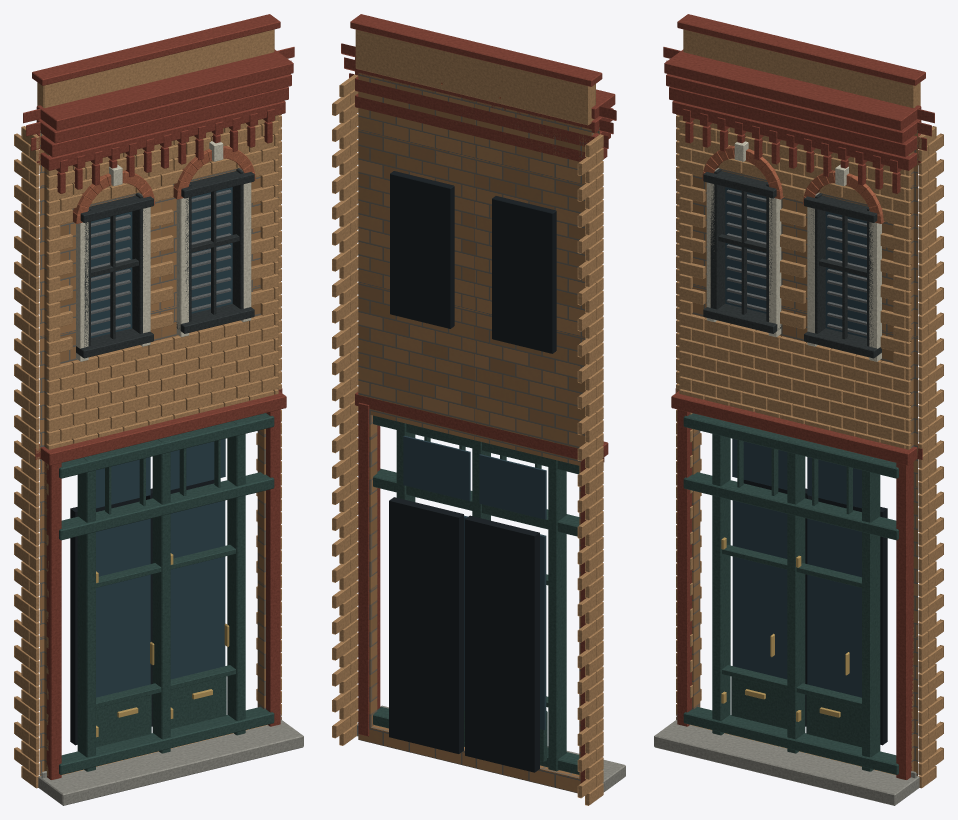
File: BUSS1_lod0.glb
3 views of the same model, side by side, from view 1: azimuth 30°, elevation 25°; view 2: azimuth 150°, elevation 25°; view 3: azimuth 330°, elevation 25° (orthographic).
Parts seen in each view (by area): view 1: BUSS1_FRONT_LOD0; view 2: BUSS1_FRONT_LOD0; view 3: BUSS1_FRONT_LOD0.
Part boxes in pixels (x1,y1,x2,y2): BUSS1_FRONT_LOD0: (14,14,303,805); BUSS1_FRONT_LOD0: (332,14,625,805); BUSS1_FRONT_LOD0: (654,14,943,805).
Bounding box in the file's own units: 3.78 × 9.44 × 1.12.
Materials: 15 (12 with a texture image).
